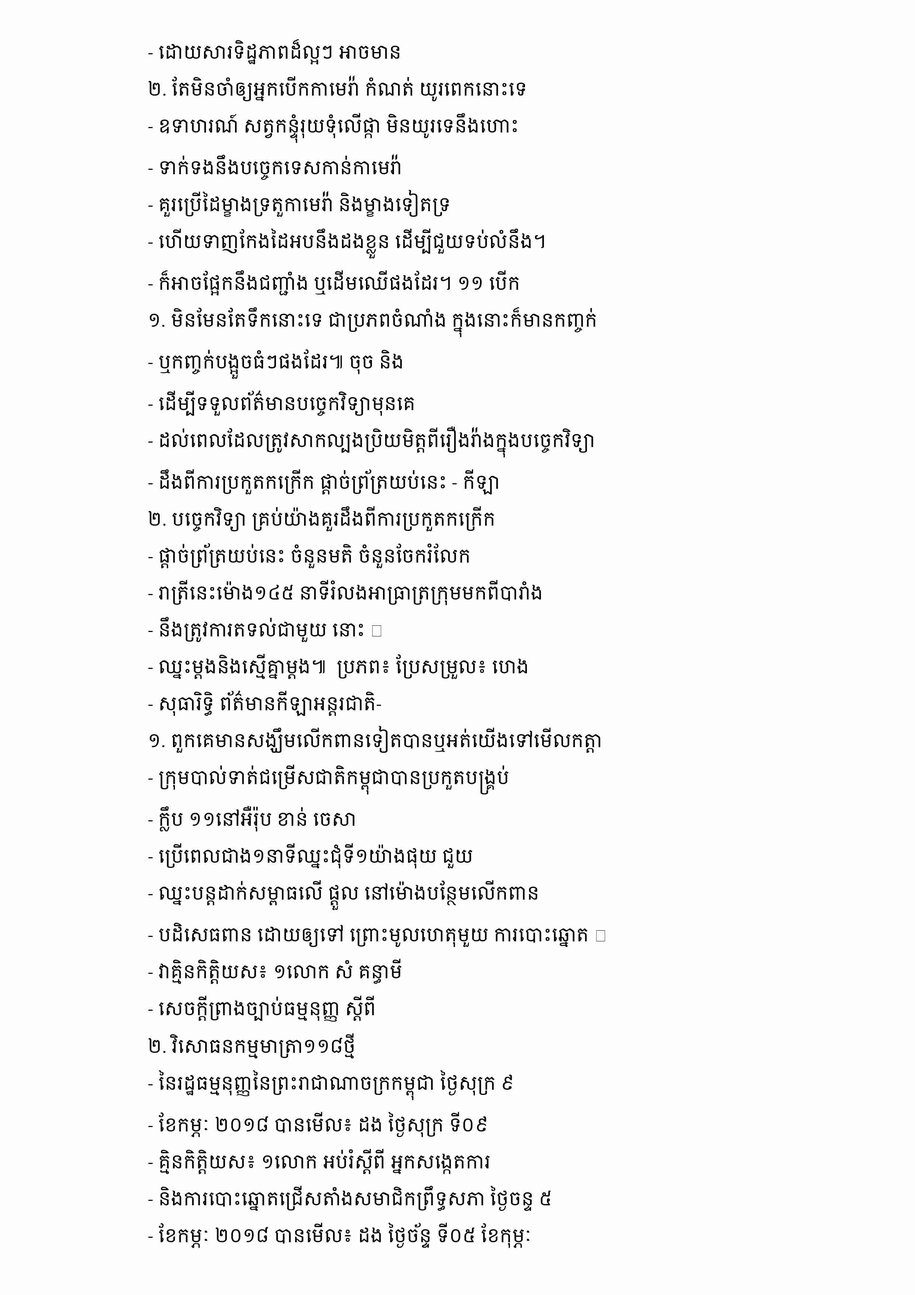text: (148, 426, 600, 458), (148, 307, 602, 337), (148, 726, 607, 753), (148, 229, 551, 259), (148, 880, 544, 910), (148, 113, 524, 143), (148, 923, 612, 947), (148, 1070, 519, 1100), (148, 765, 514, 795), (148, 75, 532, 102), (148, 1186, 557, 1211), (148, 580, 548, 605), (148, 270, 525, 296), (148, 1223, 537, 1248), (148, 654, 534, 679), (148, 469, 505, 495), (148, 506, 501, 532), (148, 1149, 496, 1174), (148, 1112, 493, 1137), (148, 843, 478, 869), (148, 543, 476, 569), (148, 190, 456, 217), (148, 349, 409, 379), (148, 390, 420, 416), (148, 154, 407, 180), (148, 39, 406, 65), (148, 959, 407, 984), (148, 690, 387, 716), (148, 996, 381, 1022), (148, 617, 388, 642), (148, 806, 362, 832), (148, 1033, 361, 1059)
